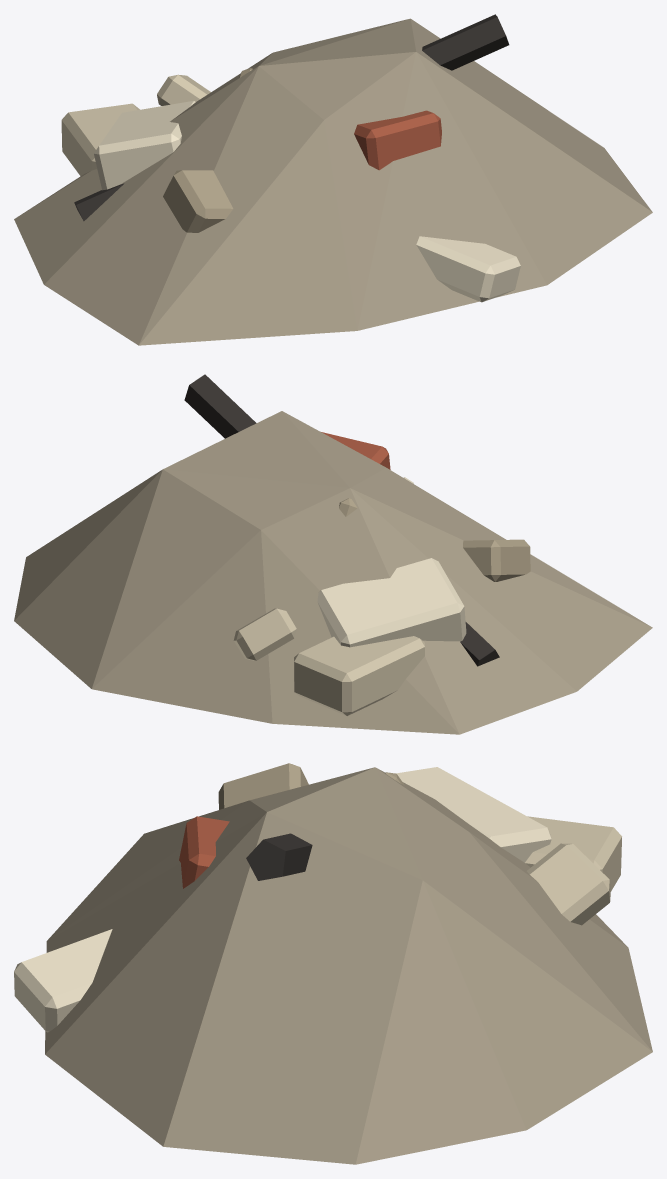
Rendered from rubble_pile.glb.
3 renders of one model, top to bottom at view 1: azimuth 30°, elevation 25°; view 2: azimuth 150°, elevation 25°; view 3: azimuth 270°, elevation 25°, orthographic. The views are drawn at different scales.
Parts seen in each view (by area): view 1: LOD0; view 2: LOD0; view 3: LOD0.
Boxes of the visible parts, x1=… form: LOD0: x1=14, y1=14, x2=652, y2=345; LOD0: x1=14, y1=374, x2=652, y2=734; LOD0: x1=14, y1=763, x2=652, y2=1164.
Size of the model in its own units: 3.6 by 1.2 by 2.89.
Materials: 1 (1 with a texture image).
